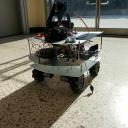cart: (26, 31, 104, 93)
